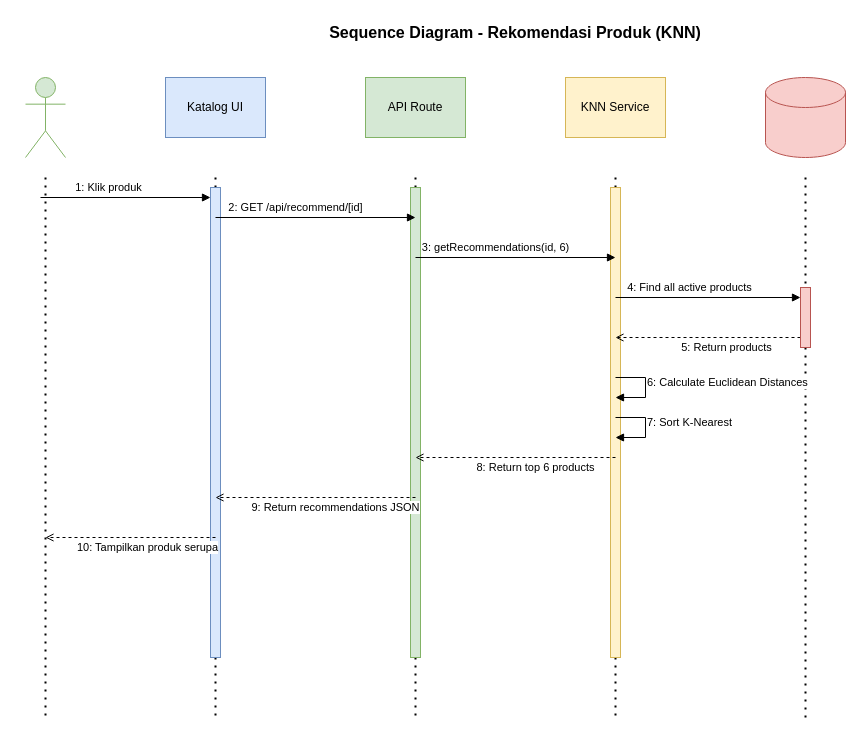
This 863x736 diagram has some shape labels left out. The shapes that lost their labels are listed below. From the top down, each one's centre as x and y in pixels, then its label:
At (45,117): "Pelanggan".
At (805,117): "Database".
